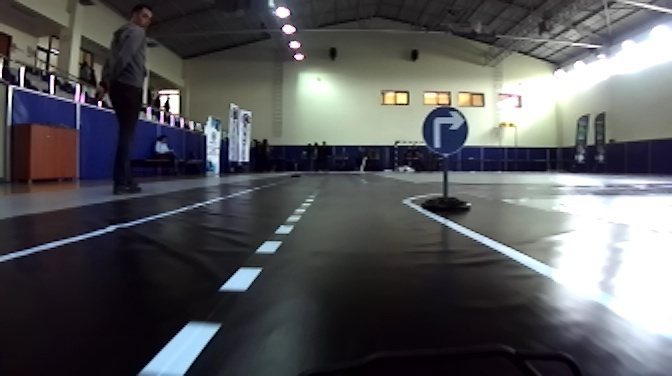saga_donus: (422, 106, 467, 152)
